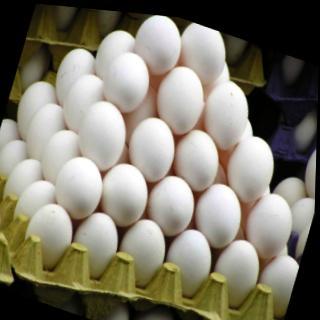Egg: (150, 60, 211, 143), (139, 166, 200, 248), (121, 111, 182, 193), (96, 154, 156, 237), (49, 142, 109, 225), (73, 96, 133, 179), (164, 116, 224, 199), (221, 127, 281, 210), (196, 70, 256, 153), (241, 180, 301, 262), (193, 173, 253, 255), (97, 41, 157, 123), (49, 65, 109, 147), (26, 110, 86, 192), (21, 195, 83, 270), (111, 210, 173, 285), (207, 235, 269, 310), (67, 208, 129, 282), (158, 220, 220, 294), (128, 13, 188, 86), (250, 246, 300, 320)
